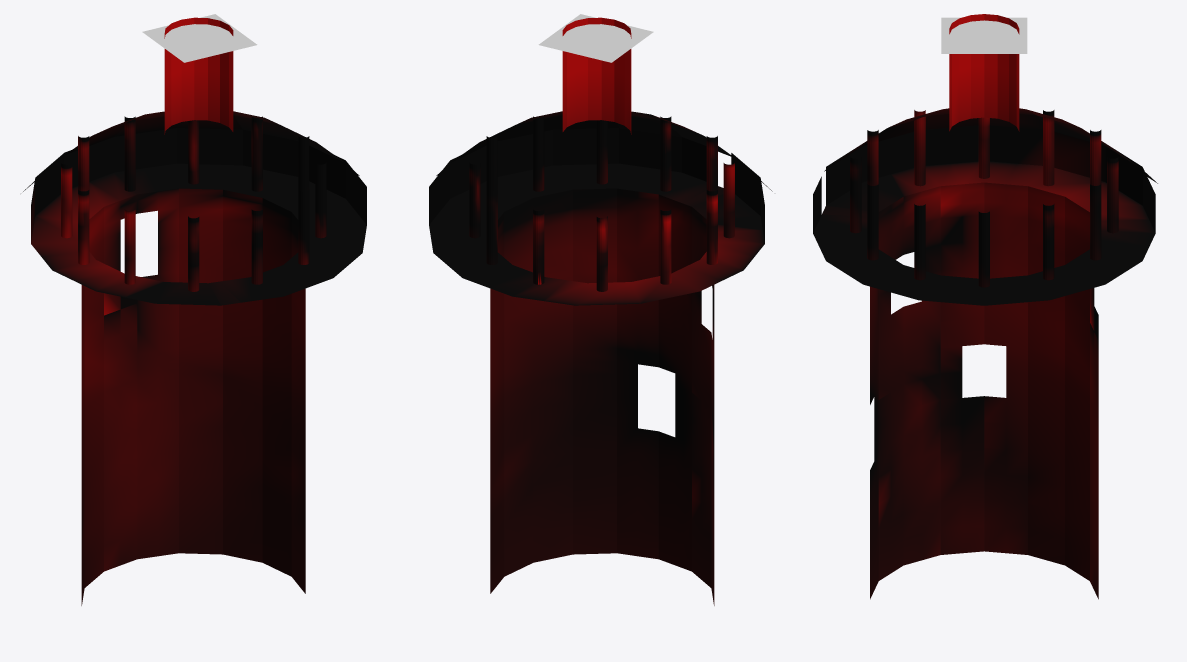
Rendered from siphon.glb.
3 views of the same model, side by side, from view 1: azimuth 30°, elevation 25°; view 2: azimuth 150°, elevation 25°; view 3: azimuth 270°, elevation 25° (orthographic).
Visible parts, largest first — view 1: Siphon, Siphon_Pillars, Siphon_Dome, Siphon_Dome_Light_Plane; view 2: Siphon, Siphon_Pillars, Siphon_Dome, Siphon_Dome_Light_Plane; view 3: Siphon, Siphon_Pillars, Siphon_Dome, Siphon_Dome_Light_Plane.
Boxes of the visible parts, bbox=[...] form: Siphon: bbox=[31, 128, 366, 605]; Siphon_Pillars: bbox=[61, 116, 326, 291]; Siphon_Dome: bbox=[23, 17, 359, 191]; Siphon_Dome_Light_Plane: bbox=[142, 14, 257, 62]; Siphon: bbox=[429, 128, 764, 605]; Siphon_Pillars: bbox=[469, 116, 734, 291]; Siphon_Dome: bbox=[436, 17, 772, 191]; Siphon_Dome_Light_Plane: bbox=[538, 14, 653, 62]; Siphon: bbox=[813, 125, 1155, 599]; Siphon_Pillars: bbox=[850, 110, 1118, 287]; Siphon_Dome: bbox=[824, 14, 1157, 183]; Siphon_Dome_Light_Plane: bbox=[941, 17, 1027, 53].
Size of the model in its own units: 26.4 by 44.31 by 25.4.
